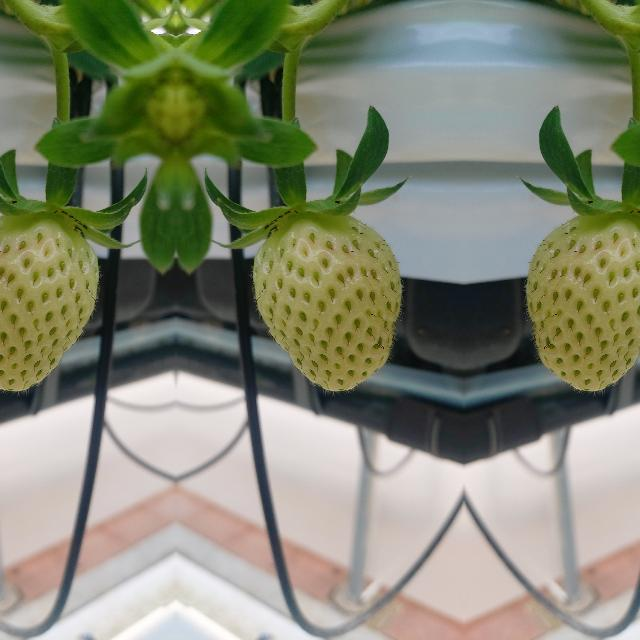Health_25: (246, 214, 404, 396), (522, 213, 640, 396), (0, 213, 103, 396)
